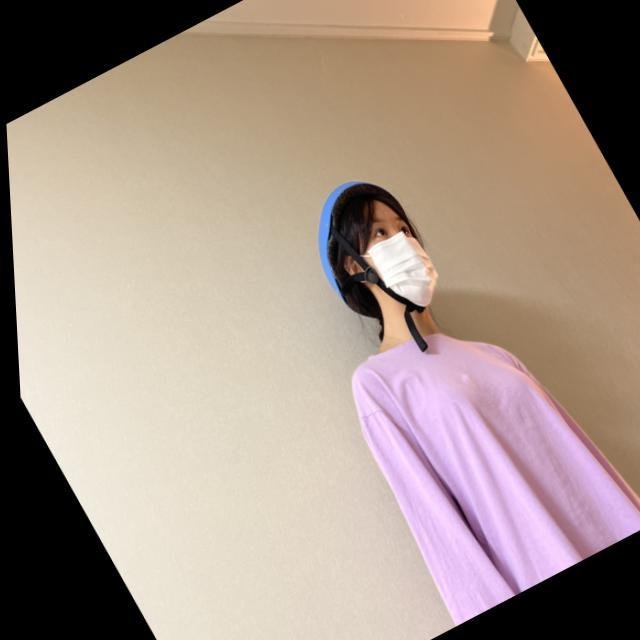Helmet: (308, 165, 452, 342)
